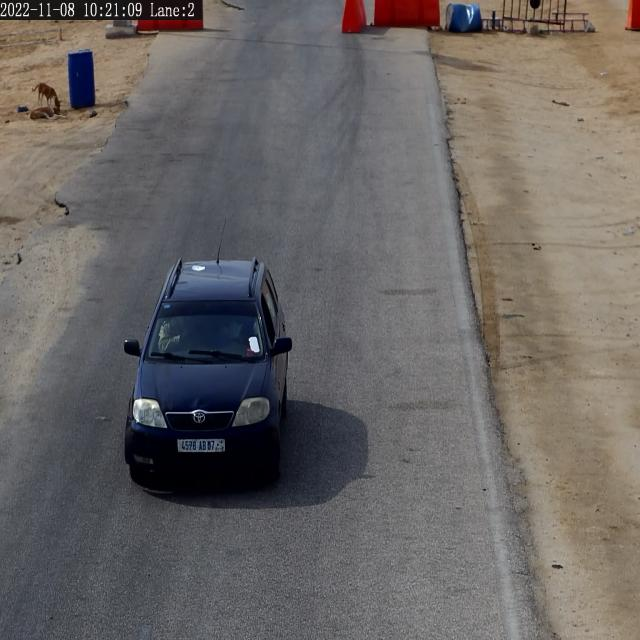BUS: (178, 439, 224, 452)
